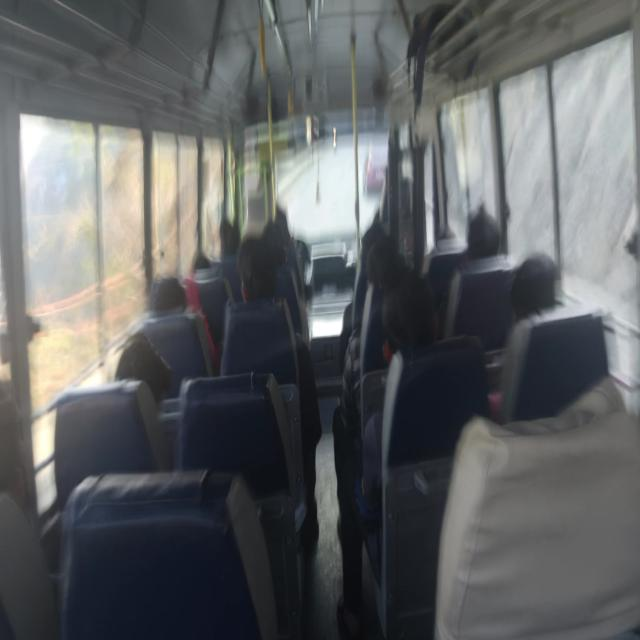person: (0, 362, 56, 599), (101, 329, 162, 426), (517, 231, 570, 329), (381, 274, 438, 361), (460, 208, 510, 277), (140, 266, 187, 318), (250, 241, 282, 312), (253, 218, 295, 266), (216, 220, 244, 272), (354, 248, 399, 280), (369, 198, 393, 257), (187, 244, 213, 276)
